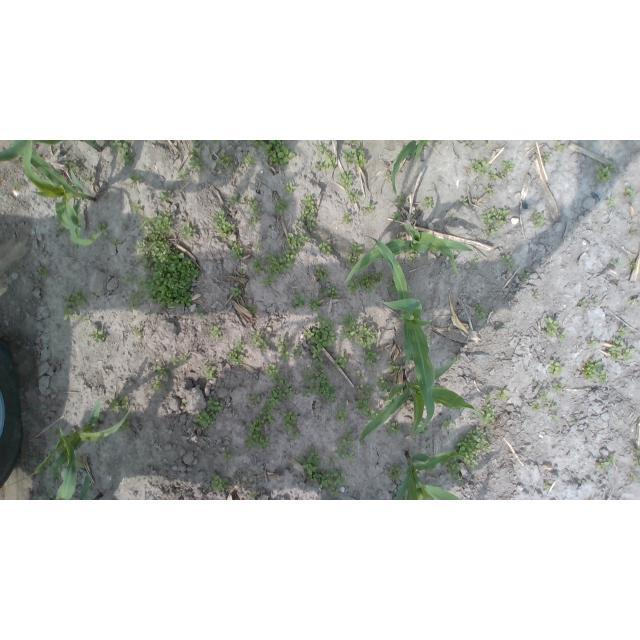Maize: (365, 234, 436, 434), (5, 402, 132, 500), (360, 357, 487, 442), (20, 141, 108, 248), (344, 221, 472, 276), (394, 449, 470, 500), (1, 140, 104, 162), (392, 140, 426, 194), (44, 470, 103, 500)
Weeds: (135, 211, 201, 310), (453, 427, 491, 470), (304, 316, 337, 358), (302, 368, 338, 405), (279, 231, 310, 273), (252, 140, 297, 168), (343, 312, 375, 349), (307, 470, 345, 498), (348, 272, 384, 297), (243, 418, 271, 450), (262, 388, 286, 425), (295, 444, 319, 476), (212, 210, 237, 237), (108, 141, 135, 166), (261, 253, 280, 288), (609, 338, 636, 362), (63, 291, 86, 319), (316, 143, 337, 173), (584, 358, 609, 383), (480, 208, 511, 227), (355, 399, 381, 421), (282, 411, 301, 440), (301, 196, 318, 228), (336, 436, 357, 461), (227, 339, 247, 365), (341, 147, 367, 167), (446, 457, 463, 486), (345, 243, 364, 265), (594, 163, 616, 182), (187, 147, 203, 172), (109, 393, 129, 412), (250, 331, 271, 349), (248, 199, 261, 227), (277, 376, 295, 396), (128, 291, 144, 313), (211, 475, 230, 493), (472, 159, 490, 178), (196, 411, 216, 428), (481, 403, 496, 425), (547, 360, 564, 379), (337, 172, 355, 189), (364, 349, 380, 368), (229, 240, 244, 260), (334, 350, 349, 370), (544, 316, 559, 336), (500, 158, 515, 178), (320, 284, 341, 298), (376, 376, 393, 393), (219, 151, 234, 170), (206, 398, 224, 413), (90, 327, 106, 343), (531, 212, 547, 228), (114, 417, 131, 432), (336, 406, 349, 425), (276, 199, 289, 218), (203, 364, 218, 380), (266, 364, 280, 381), (473, 304, 487, 321), (252, 255, 265, 273), (309, 297, 324, 312), (388, 466, 403, 481), (440, 415, 456, 429), (357, 384, 374, 397), (169, 354, 187, 366), (315, 266, 329, 281), (208, 325, 222, 340), (386, 422, 400, 437), (64, 160, 78, 175), (500, 255, 514, 270), (318, 240, 332, 254), (275, 337, 291, 349), (495, 387, 509, 400), (129, 173, 144, 185), (293, 294, 306, 307), (249, 392, 262, 405), (98, 223, 111, 236), (284, 181, 296, 195), (244, 153, 256, 167), (123, 273, 136, 285), (159, 189, 171, 202), (313, 358, 328, 368), (486, 227, 501, 237), (156, 364, 168, 376), (538, 390, 550, 402), (55, 227, 68, 238), (37, 266, 49, 277), (348, 191, 360, 202), (597, 459, 609, 470), (554, 140, 565, 152), (151, 380, 161, 393), (589, 336, 599, 349), (551, 383, 564, 393), (131, 203, 142, 214), (279, 349, 289, 361), (75, 458, 85, 470), (111, 237, 121, 249), (408, 249, 418, 261), (363, 203, 375, 213), (393, 196, 406, 205), (247, 303, 257, 314), (529, 401, 540, 411), (606, 198, 616, 209), (489, 171, 500, 181), (344, 212, 353, 224), (391, 213, 401, 223), (291, 348, 302, 357), (231, 196, 242, 205), (424, 197, 433, 208), (543, 152, 551, 164), (458, 198, 470, 206), (231, 287, 240, 297), (521, 271, 531, 280), (392, 365, 401, 375), (135, 327, 143, 338), (13, 181, 21, 192), (628, 299, 640, 306), (571, 418, 580, 427), (178, 171, 187, 180), (453, 354, 461, 364), (580, 299, 588, 309), (51, 428, 61, 436), (626, 188, 636, 196), (256, 241, 265, 249), (617, 328, 625, 337), (385, 395, 392, 405), (196, 308, 204, 316), (223, 452, 231, 460), (543, 482, 551, 490), (559, 332, 566, 341), (486, 188, 493, 197), (81, 175, 91, 181), (356, 374, 364, 381), (547, 404, 555, 411), (630, 474, 637, 482), (472, 258, 478, 267), (610, 456, 616, 465), (39, 469, 46, 476), (97, 461, 104, 468), (631, 263, 638, 270), (345, 427, 351, 435), (632, 460, 640, 466), (294, 220, 302, 226), (628, 230, 636, 236), (634, 448, 640, 456), (252, 493, 258, 500), (552, 415, 559, 421), (426, 339, 432, 346), (465, 140, 472, 146), (328, 459, 333, 467), (182, 398, 188, 404), (396, 237, 405, 241), (533, 292, 539, 298), (487, 394, 493, 400), (416, 470, 421, 477), (613, 261, 619, 266), (216, 140, 221, 145), (500, 325, 504, 330)
